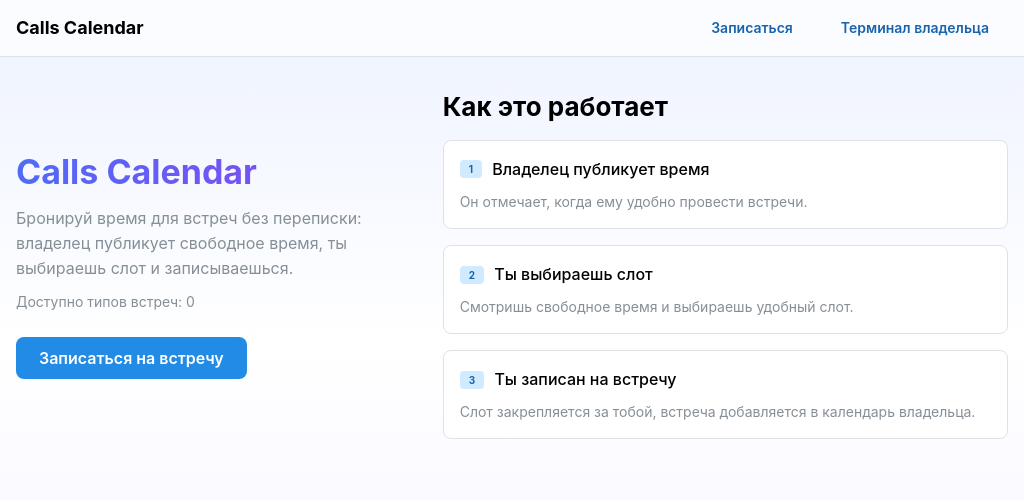
Test: Навигация › хедер отображается на всех страницах и ведёт по сервису
Note: «Терминал владельца» ведёт на страницу владельца (бывшие «Мои типы встреч»).
Click the link "Терминал владельца": (915, 28) [841,19,989,36]
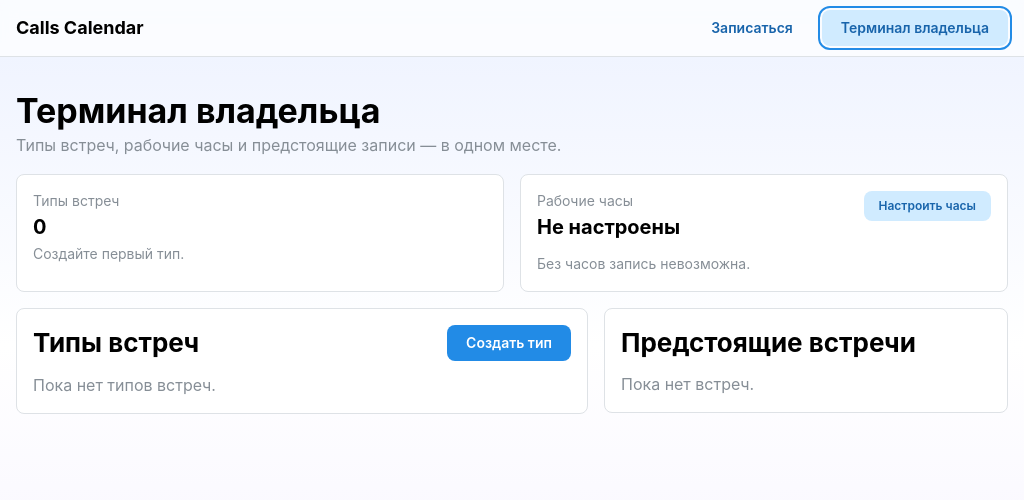
Check: the heading "Терминал владельца" is shown, box [16,90,380,131]
Note: Хедер остаётся и на странице владельца: «Записаться» ведёт к записи.
Click the link "Записаться": (752, 28) [692,10,812,46]
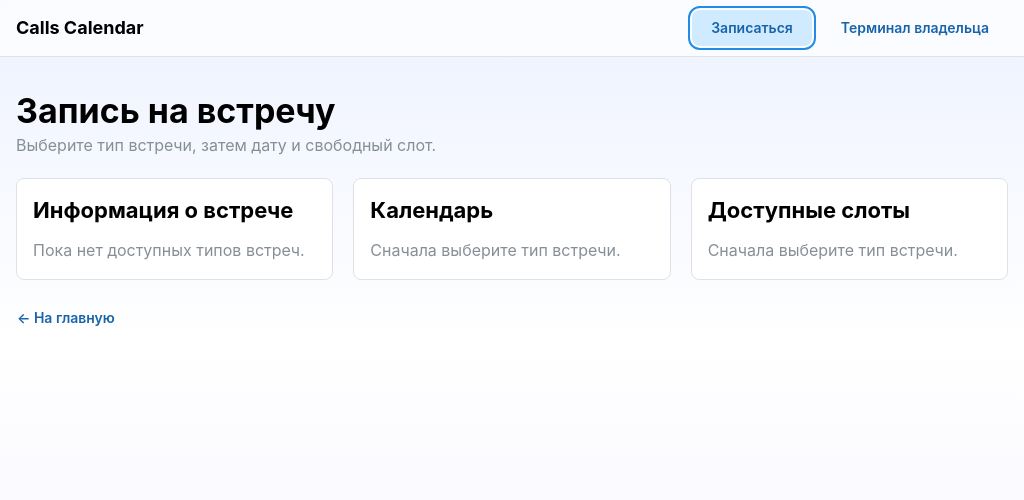
Check: the heading "Запись на встречу" is shown, box [16,90,336,131]
